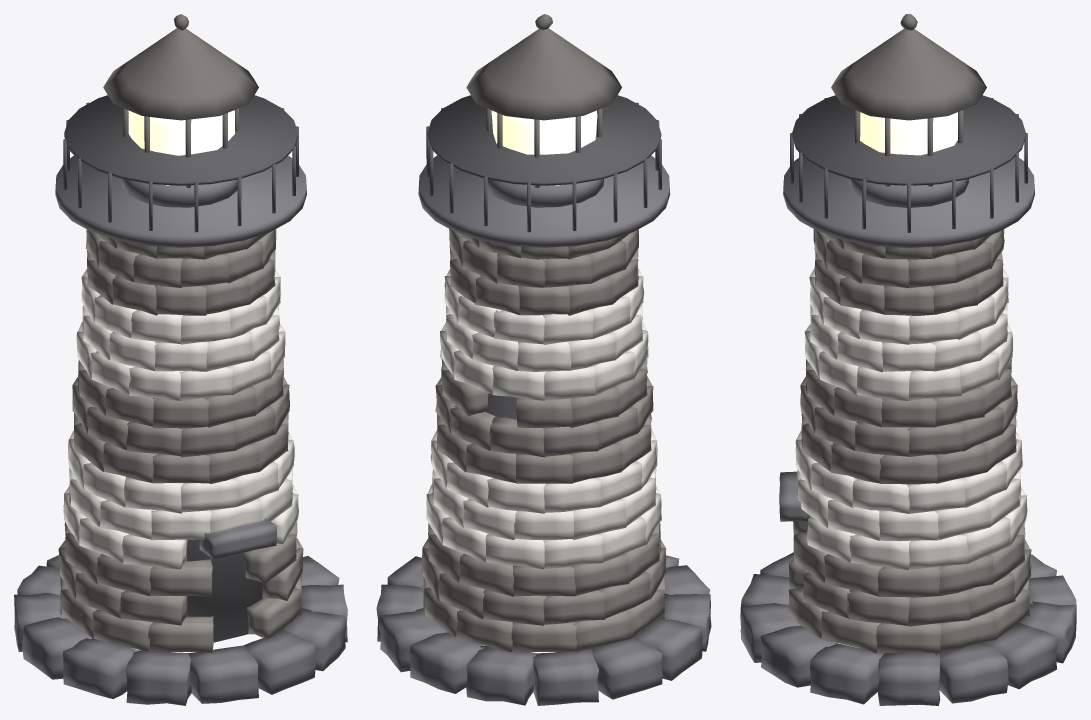
File: poi_small_lighthouse.glb
3 views of the same model, side by side, from view 1: azimuth 30°, elevation 25°; view 2: azimuth 150°, elevation 25°; view 3: azimuth 270°, elevation 25° (orthographic).
Parts seen in each view (by area): view 1: poi_small_lighthouse; view 2: poi_small_lighthouse; view 3: poi_small_lighthouse.
Boxes of the visible parts, box(x1,y1,x2,y2) form: poi_small_lighthouse: box(14, 14, 347, 705); poi_small_lighthouse: box(376, 14, 711, 705); poi_small_lighthouse: box(740, 14, 1076, 705).
Size of the model in its own units: 5.54 by 11.44 by 5.61.
